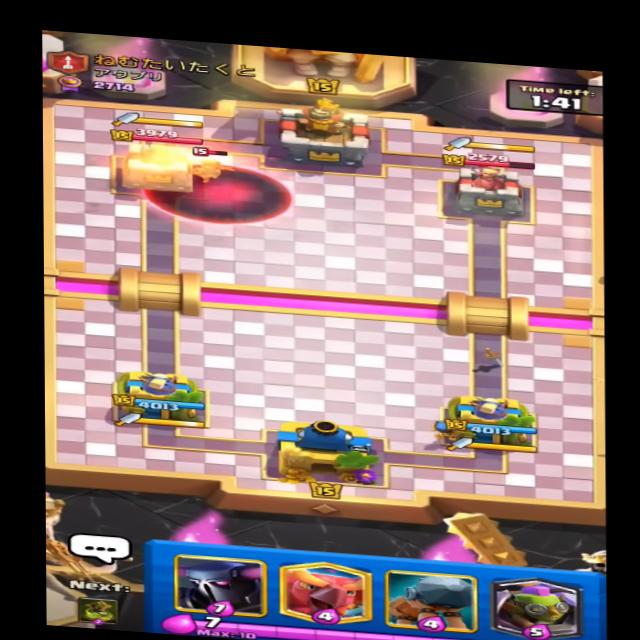princess: (192, 154, 234, 187)
